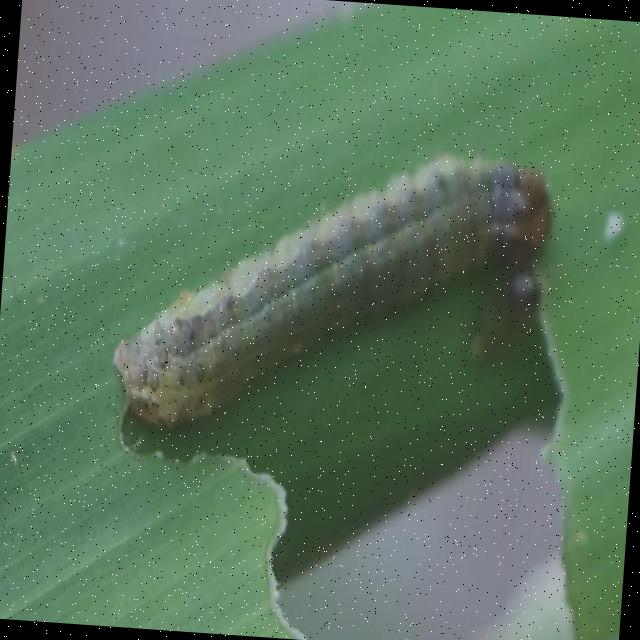worm: (107, 128, 557, 458)
